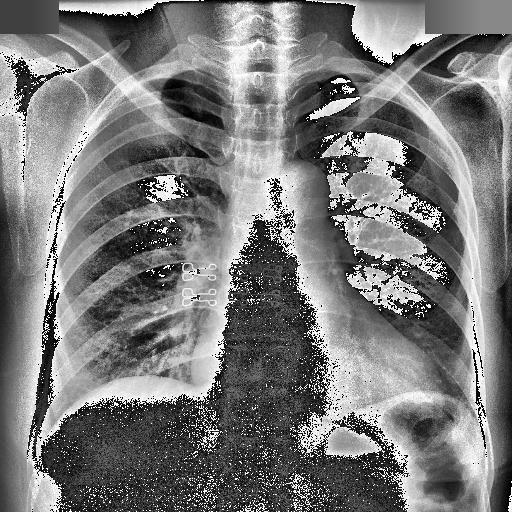0- Aortic enlargement: (266, 161, 332, 225), (270, 159, 330, 225)
3- Cardiomegaly: (190, 328, 448, 417), (193, 322, 442, 400), (190, 342, 442, 403)
